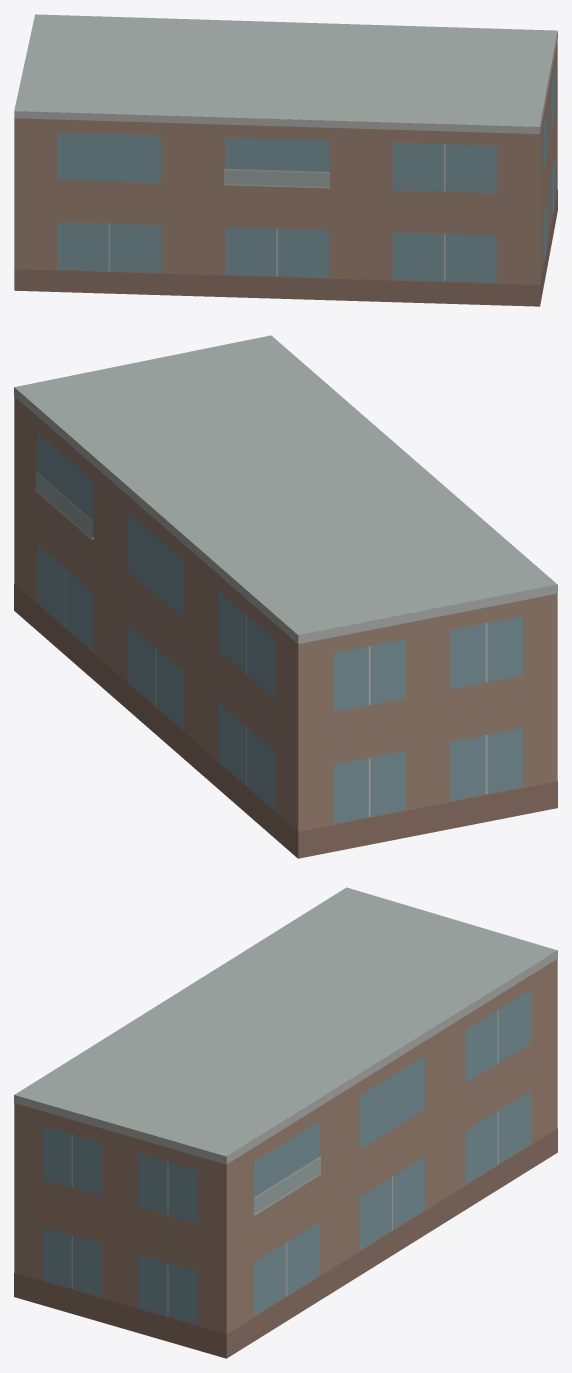
File: survey-upis-32659061.glb
3 views of the same model, one above another, from view 1: azimuth 30°, elevation 25°; view 2: azimuth 150°, elevation 25°; view 3: azimuth 270°, elevation 25° (orthographic). The views are drawn at different scales.
Parts seen in each view (by area): view 1: survey-upis-32659061.tmp; view 2: survey-upis-32659061.tmp; view 3: survey-upis-32659061.tmp.
Part boxes in pixels (<box>): survey-upis-32659061.tmp: <box>14,14,557,306</box>; survey-upis-32659061.tmp: <box>14,335,557,858</box>; survey-upis-32659061.tmp: <box>14,887,557,1358</box>.
Bounding box in the file's own units: 17.44 × 6.1 × 14.89.
